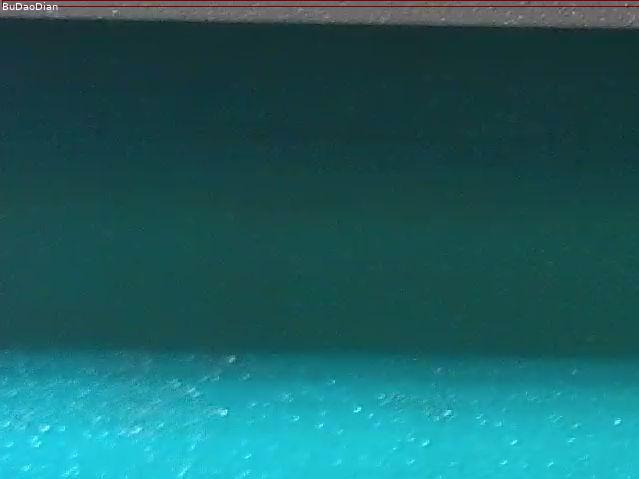BuDaoDian: (2, 0, 639, 6)
